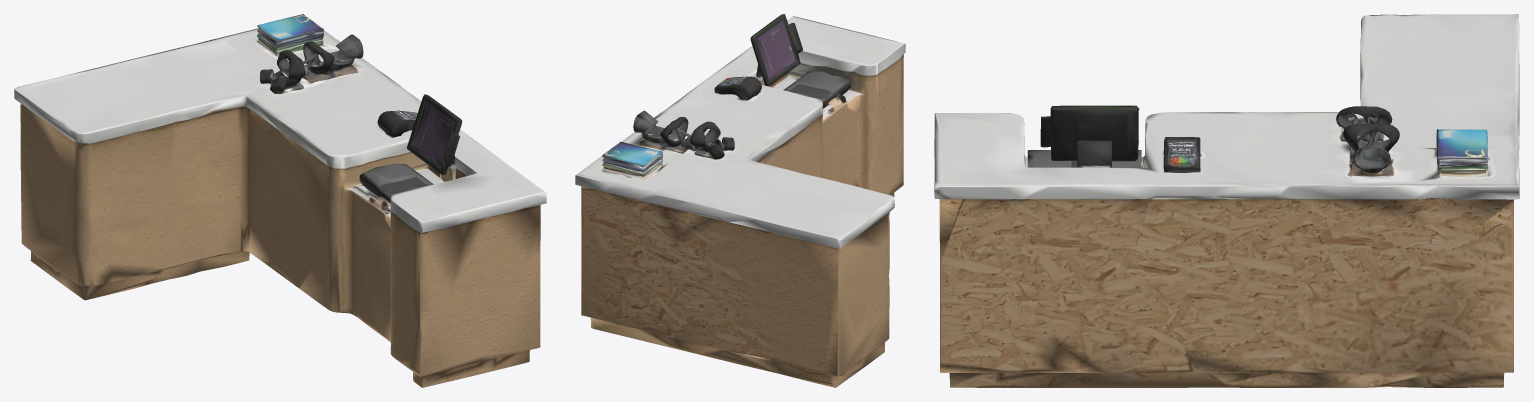
Rendered from balie.glb.
3 renders of one model, left to right at view 1: azimuth 30°, elevation 25°; view 2: azimuth 150°, elevation 25°; view 3: azimuth 270°, elevation 25°, orthographic. The views are drawn at different scales.
Parts seen in each view (by area): view 1: tripo_node_35e725cd-3f95-4867-85e8-dd70da3d5374; view 2: tripo_node_35e725cd-3f95-4867-85e8-dd70da3d5374; view 3: tripo_node_35e725cd-3f95-4867-85e8-dd70da3d5374.
Boxes of the visible parts, x1,y1,x2,y2 form: tripo_node_35e725cd-3f95-4867-85e8-dd70da3d5374: (14, 14, 546, 387); tripo_node_35e725cd-3f95-4867-85e8-dd70da3d5374: (575, 14, 905, 387); tripo_node_35e725cd-3f95-4867-85e8-dd70da3d5374: (934, 14, 1519, 387).
Bounding box in the file's own units: 1.19 × 0.85 × 1.7.
1 material, 1 textured.
